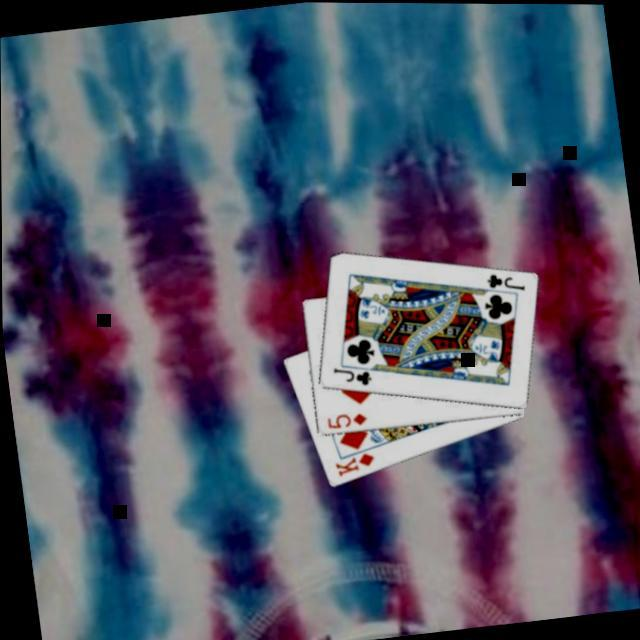5D: (325, 409, 371, 434)
JC: (330, 362, 376, 392), (484, 268, 528, 298)
KD: (331, 449, 380, 480)
